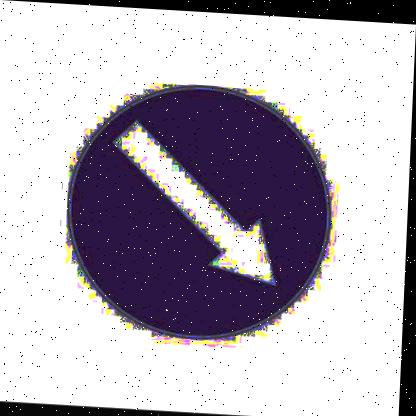Keep right: (61, 69, 339, 344)
